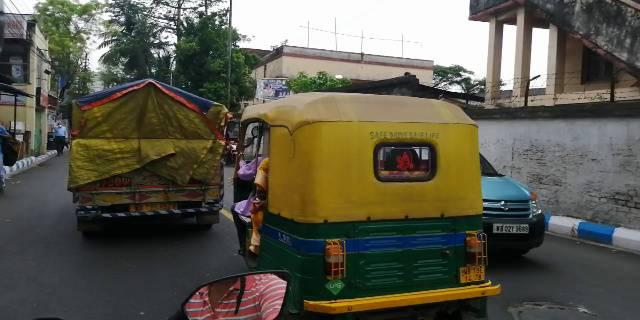Autorickshaw: (233, 88, 485, 320)
Car: (477, 148, 551, 264)
Minitruck: (62, 77, 226, 238)
